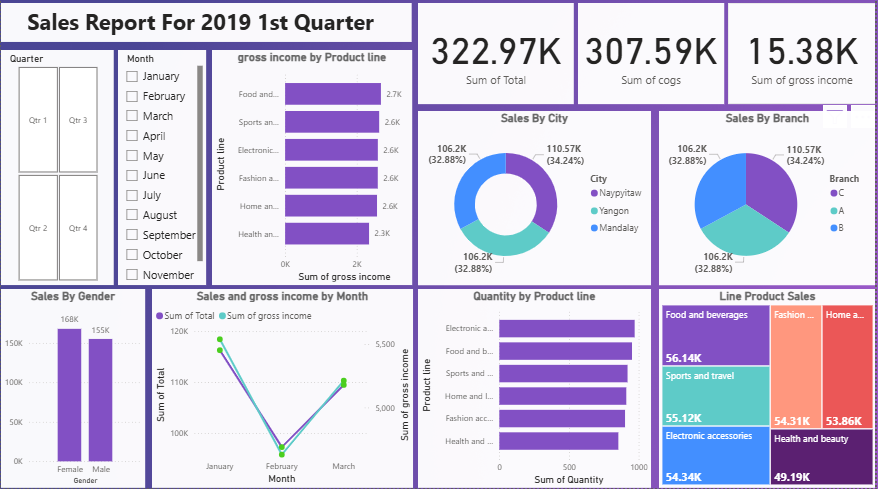

What the dashboard file says about the page in this screenshot:
{"tool":"powerbi","page":{"name":"Summery","canvas":[1280,720],"ordinal":0},"visuals":[{"type":"card","fields":{"Values":["Sum(supermarket_sales - Sheet1.gross income)"]},"box":[1063.9,10.2,216.6,147.8],"z":0},{"type":"card","fields":{"Values":["Sum(supermarket_sales - Sheet1.Total)"]},"box":[610.2,10.2,228.3,147.8],"z":1000},{"type":"card","fields":{"Values":["Sum(supermarket_sales - Sheet1.cogs)"]},"box":[844.4,10.2,213.7,147.8],"z":2000},{"type":"pieChart","title":"Sales By Branch","fields":{"Category":["supermarket_sales - Sheet1.Branch"],"Y":["Sum(supermarket_sales - Sheet1.Total)"]},"box":[962.9,168.3,317.6,254.6],"z":3000},{"type":"donutChart","title":"Sales By City","fields":{"Category":["supermarket_sales - Sheet1.City"],"Y":["Sum(supermarket_sales - Sheet1.Total)"]},"box":[610.2,168.3,341,254.6],"z":4000},{"type":"columnChart","title":"Sales By Gender","fields":{"Category":["supermarket_sales - Sheet1.Gender"],"Y":["Sum(supermarket_sales - Sheet1.Total)"]},"box":[0,428.8,210.7,291.2],"z":5000},{"type":"treemap","title":"Line Product Sales","fields":{"Group":["supermarket_sales - Sheet1.Product line"],"Values":["Sum(supermarket_sales - Sheet1.Total)"]},"box":[962.9,428.8,317.6,291.2],"z":6000},{"type":"slicer","fields":{"Values":["supermarket_sales - Sheet1.Date1.Variation.Date Hierarchy.Quarter"]},"box":[0,79,165.4,343.9],"z":7000},{"type":"slicer","fields":{"Values":["supermarket_sales - Sheet1.Date1.Variation.Date Hierarchy.Month"]},"box":[171.2,79,128.8,343.9],"z":8000},{"type":"lineChart","title":"Sales and gross income by Month","fields":{"Category":["supermarket_sales - Sheet1.Date1.Variation.Date Hierarchy.Month"],"Y":["Sum(supermarket_sales - Sheet1.Total)"],"Y2":["Sum(supermarket_sales - Sheet1.gross income)"]},"box":[221,428.8,382,291.2],"z":9000},{"type":"clusteredBarChart","title":"gross income by Product line","fields":{"Y":["Sum(supermarket_sales - Sheet1.gross income)"],"Category":["supermarket_sales - Sheet1.Product line"]},"box":[308.8,79,292.7,343.9],"z":10000},{"type":"barChart","title":"Quantity by Product line","fields":{"Y":["Sum(supermarket_sales - Sheet1.Quantity)"],"Category":["supermarket_sales - Sheet1.Product line"]},"box":[610.2,428.8,341,291.2],"z":11000},{"type":"textbox","box":[0,10.2,601.5,57.1],"z":12000}]}

Visuals, with their boxes in screenshot pixels (x1, y1, x2, y2), scaled from the page's 1280x720 canvas onto the 878x489 screenshot:
card - Sum(supermarket_sales - Sheet1.gross income): {"x1": 730, "y1": 7, "x2": 877, "y2": 107}
card - Sum(supermarket_sales - Sheet1.Total): {"x1": 419, "y1": 7, "x2": 575, "y2": 107}
card - Sum(supermarket_sales - Sheet1.cogs): {"x1": 579, "y1": 7, "x2": 726, "y2": 107}
"Sales By Branch" pieChart: {"x1": 660, "y1": 114, "x2": 877, "y2": 287}
"Sales By City" donutChart: {"x1": 419, "y1": 114, "x2": 652, "y2": 287}
"Sales By Gender" columnChart: {"x1": 0, "y1": 291, "x2": 145, "y2": 488}
"Line Product Sales" treemap: {"x1": 660, "y1": 291, "x2": 877, "y2": 488}
slicer - supermarket_sales - Sheet1.Date1.Variation.Date Hierarchy.Quarter: {"x1": 0, "y1": 54, "x2": 113, "y2": 287}
slicer - supermarket_sales - Sheet1.Date1.Variation.Date Hierarchy.Month: {"x1": 117, "y1": 54, "x2": 206, "y2": 287}
"Sales and gross income by Month" lineChart: {"x1": 152, "y1": 291, "x2": 414, "y2": 488}
"gross income by Product line" clusteredBarChart: {"x1": 212, "y1": 54, "x2": 413, "y2": 287}
"Quantity by Product line" barChart: {"x1": 419, "y1": 291, "x2": 652, "y2": 488}
textbox: {"x1": 0, "y1": 7, "x2": 413, "y2": 46}
